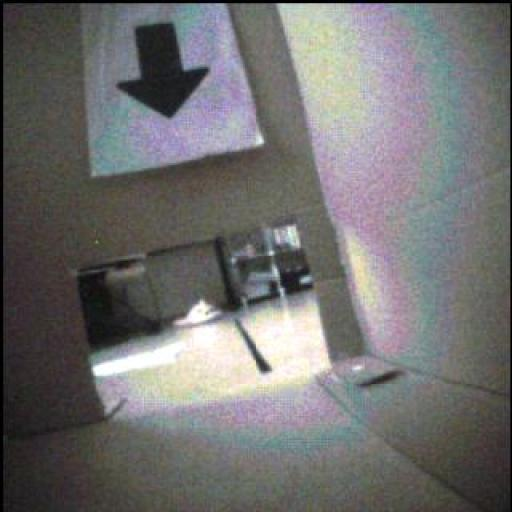arrow: (118, 25, 209, 118)
